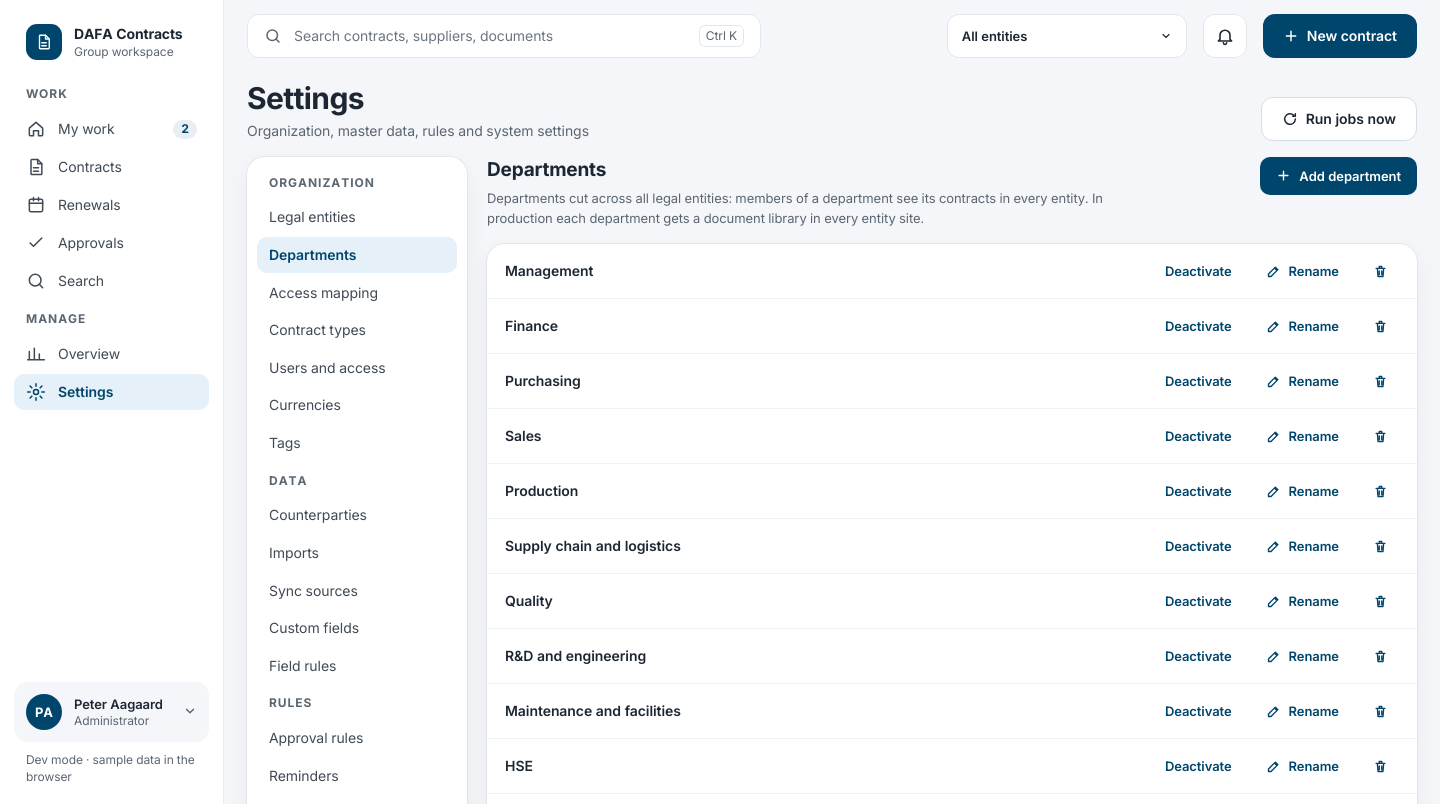
Test case: H1: renaming or deactivating a department keeps its SharePoint library and Entra group › rename and deactivate send the existing link along
Click the button with aria-label "Rename Purchasing".
click(1302, 381)  # box [1256,363,1349,399]
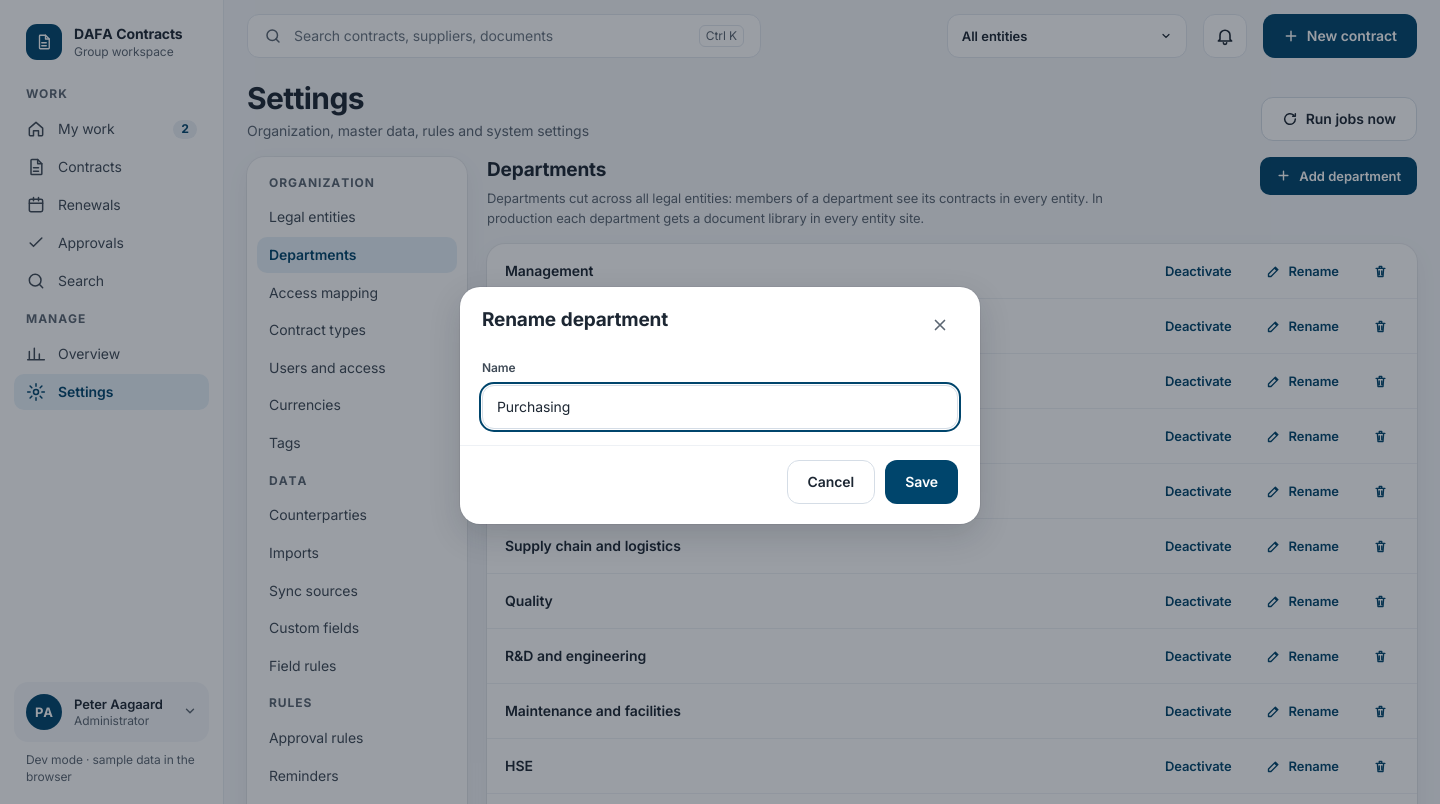
Replace the text in the field labelled "Name" with "Procurement" at (720, 406), box [482,384,958,428]
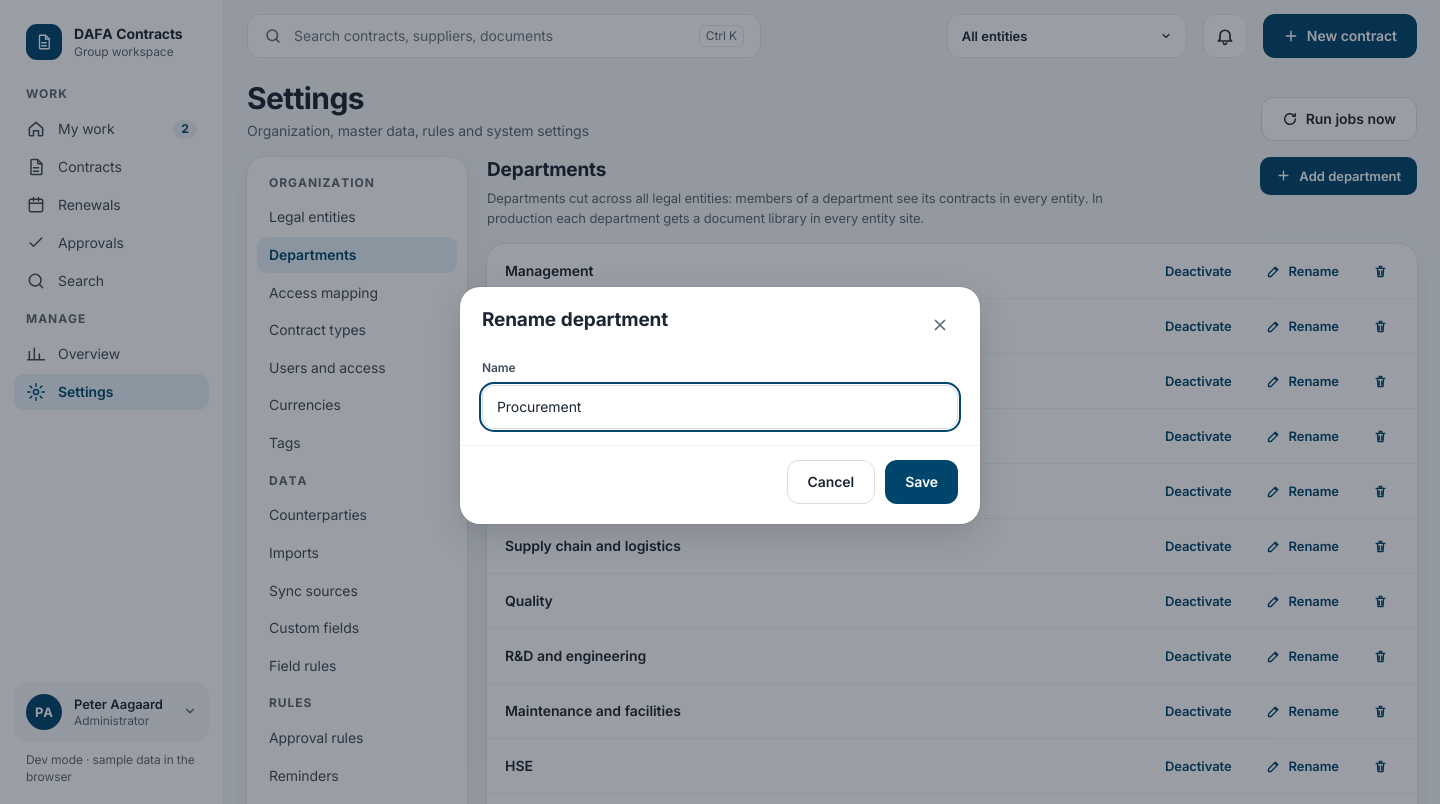
Click the button "Save".
click(922, 482)  # box [885,460,958,504]
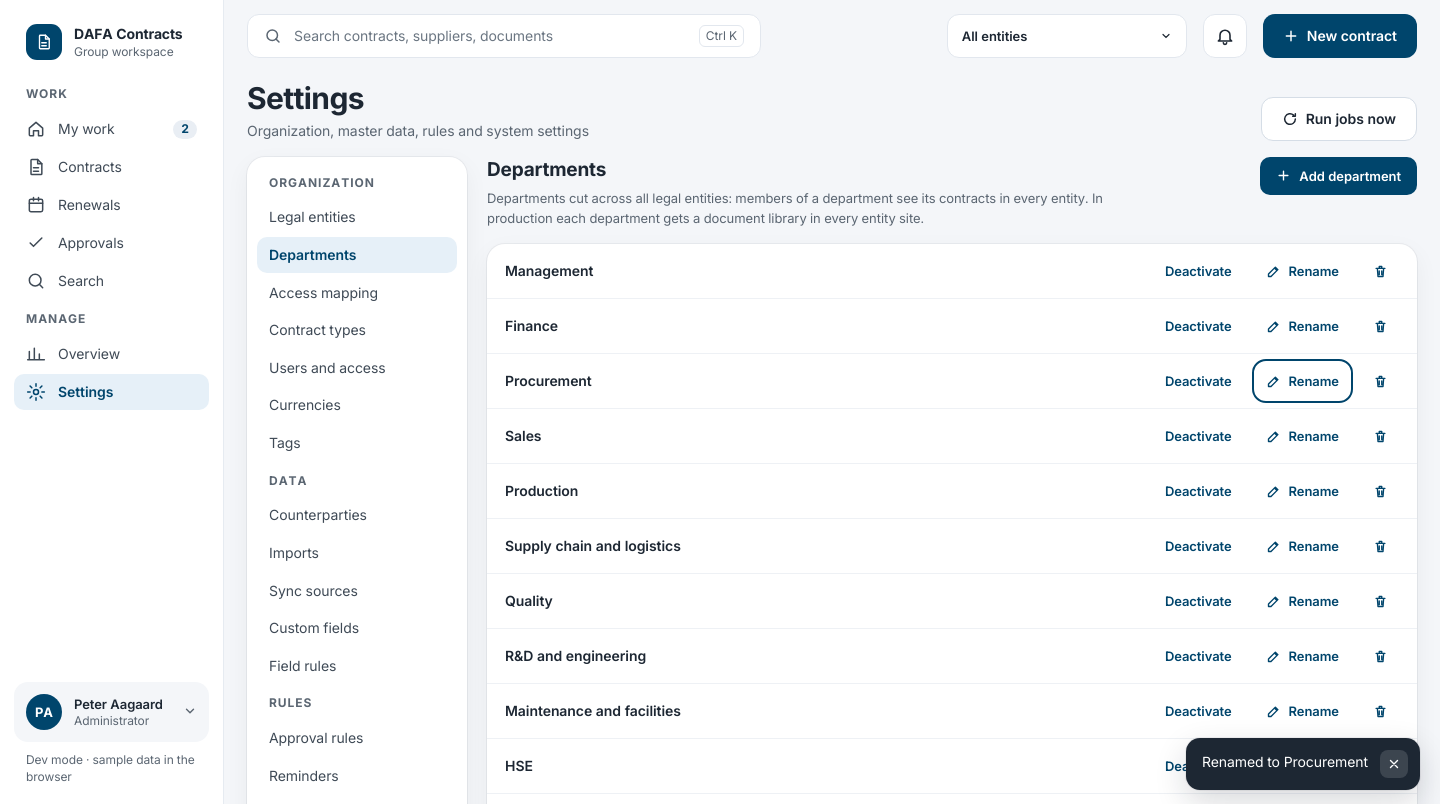
Expected: the text "Renamed to Procurement" is shown, [1202,750,1368,772]
Click the 3rd button "Deactivate".
click(1198, 381)  # box [1155,363,1242,399]
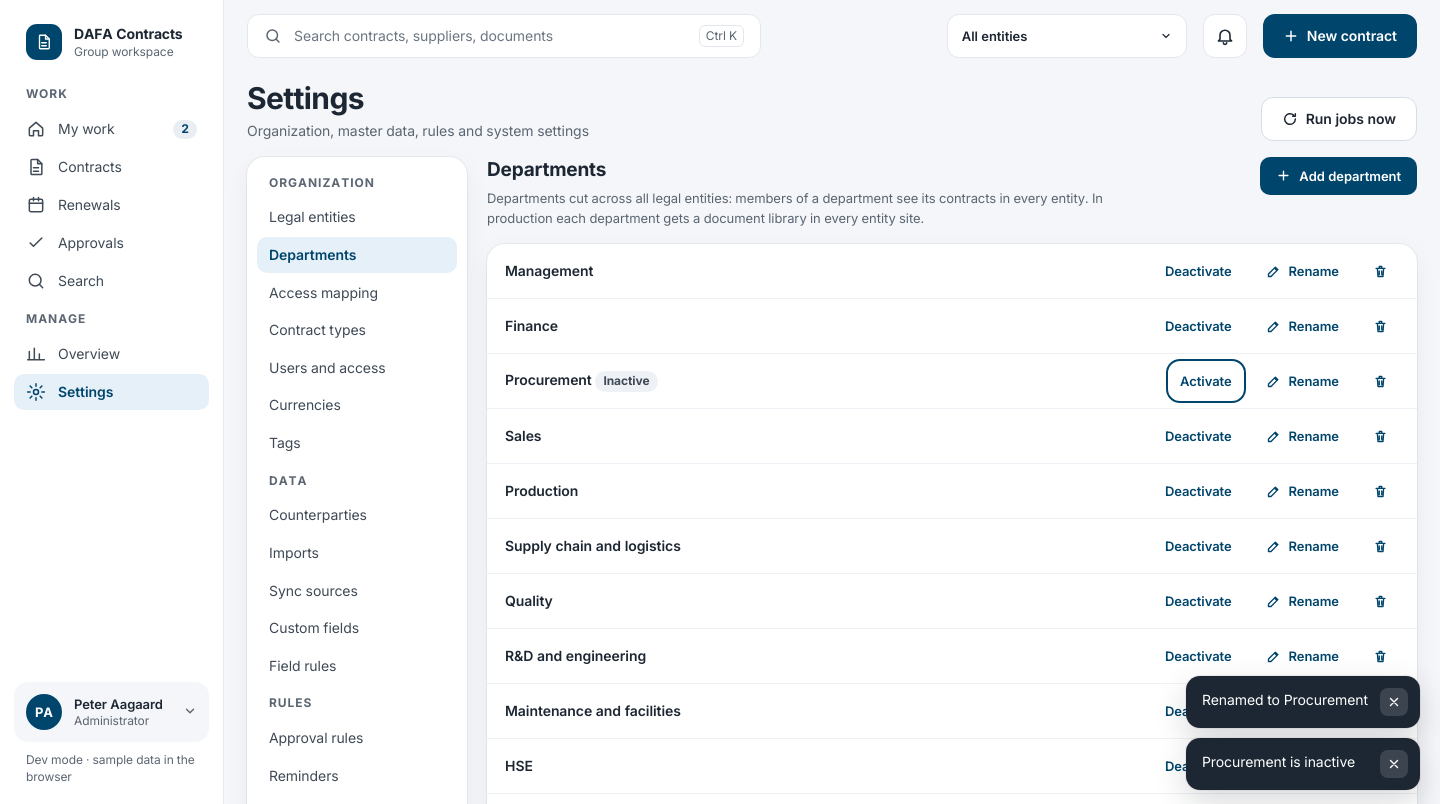
Expected: the text "Procurement is inactive" is shown, [1202,750,1368,772]
